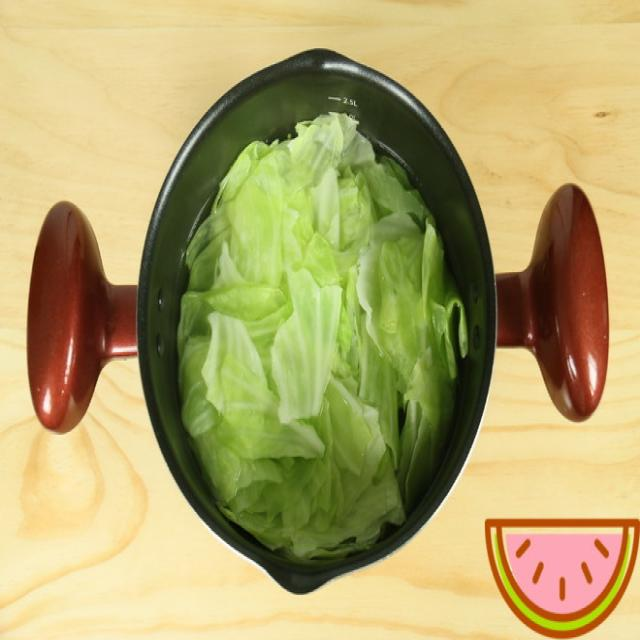bap cai luoc: (178, 115, 447, 557)
